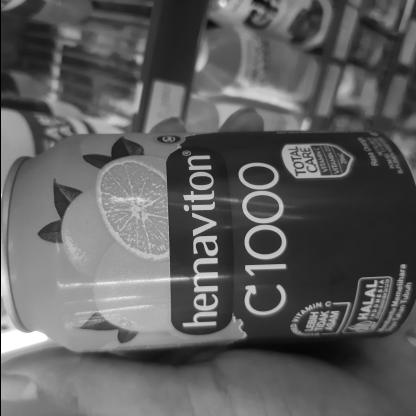alumunium_can: (0, 119, 416, 364)
